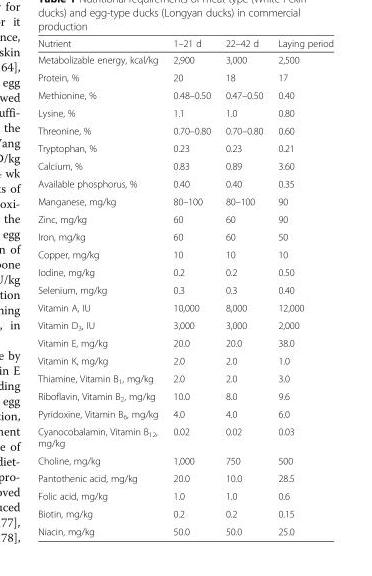table: (37, 37, 333, 536)
table column: (37, 37, 165, 536), (269, 37, 333, 536), (165, 37, 217, 536), (217, 37, 269, 536)
table column header: (37, 37, 333, 51)
table row: (37, 422, 333, 451), (37, 68, 333, 86), (37, 103, 333, 121), (37, 121, 333, 139), (37, 156, 333, 174), (37, 174, 333, 192), (37, 209, 333, 227), (37, 227, 333, 245), (37, 245, 333, 263), (37, 280, 333, 298), (37, 298, 333, 316), (37, 316, 333, 334), (37, 351, 333, 369), (37, 369, 333, 387), (37, 387, 333, 405), (37, 451, 333, 469), (37, 486, 333, 504), (37, 504, 333, 522), (37, 51, 333, 68), (37, 86, 333, 103), (37, 139, 333, 156), (37, 192, 333, 209), (37, 263, 333, 280), (37, 334, 333, 351), (37, 405, 333, 422), (37, 469, 333, 486), (37, 37, 333, 51), (37, 522, 333, 536)
